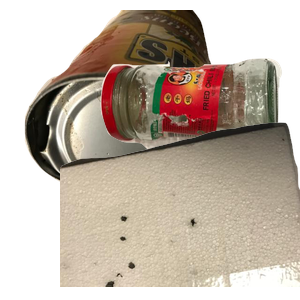glass: (98, 56, 300, 201)
metal: (22, 10, 251, 190)
plastic: (98, 176, 266, 300)
trash: (60, 120, 300, 300)
